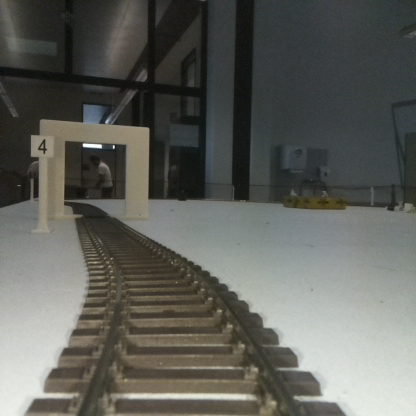white-info-4: (30, 134, 53, 230)
